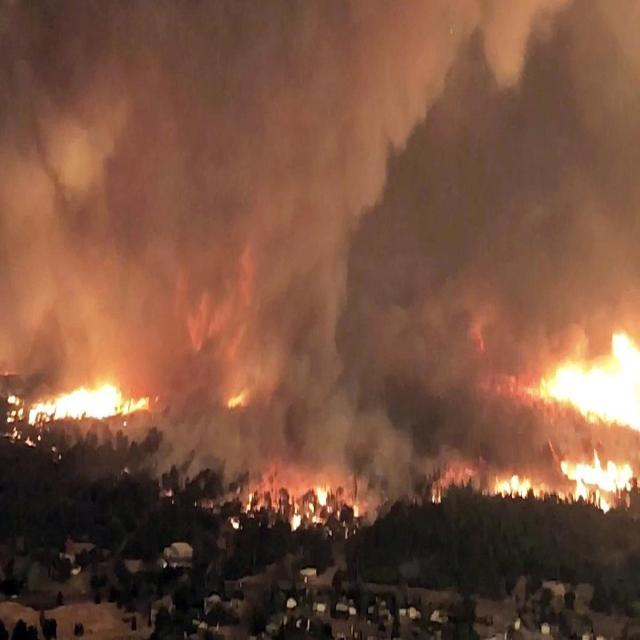Fire: (531, 325, 639, 430), (28, 379, 150, 424), (557, 451, 631, 514), (492, 470, 534, 498), (2, 390, 24, 421), (314, 483, 328, 507), (229, 390, 245, 409), (291, 512, 303, 532)
